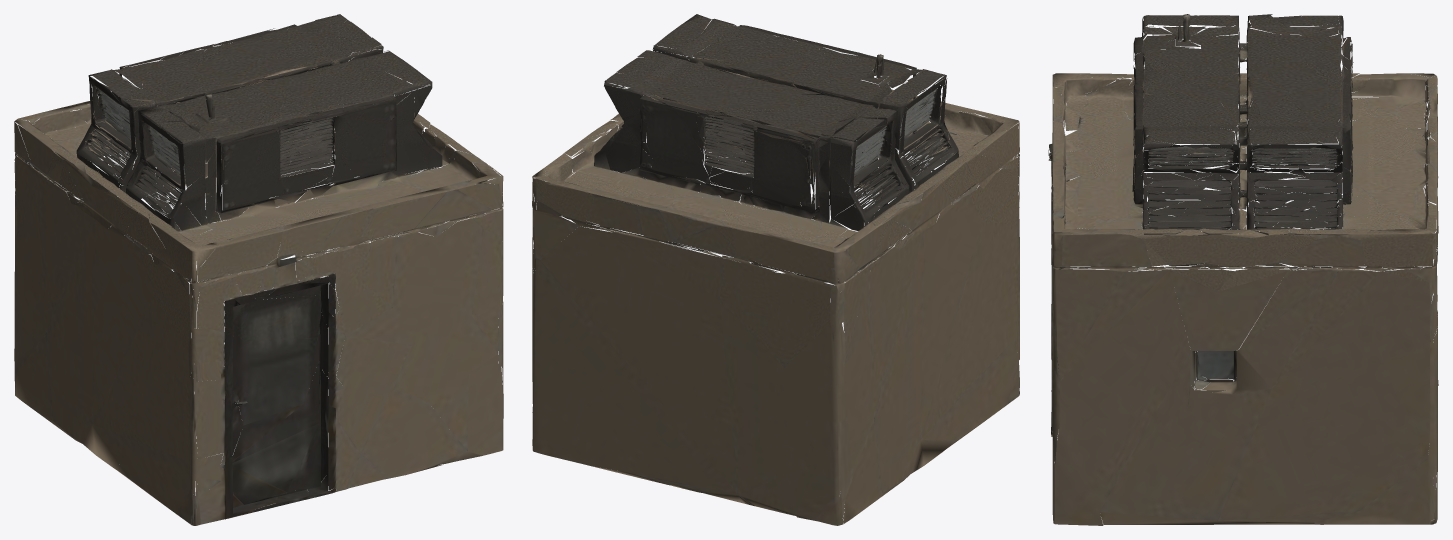
Rendered from shelter-web.glb.
The picture shows the model from 3 angles, left to right: view 1: azimuth 30°, elevation 25°; view 2: azimuth 150°, elevation 25°; view 3: azimuth 270°, elevation 25°; orthographic projection. The views are drawn at different scales.
Size of the model in its own units: 2.87 by 3.2 by 2.91.
Materials: 1 (1 with a texture image).
